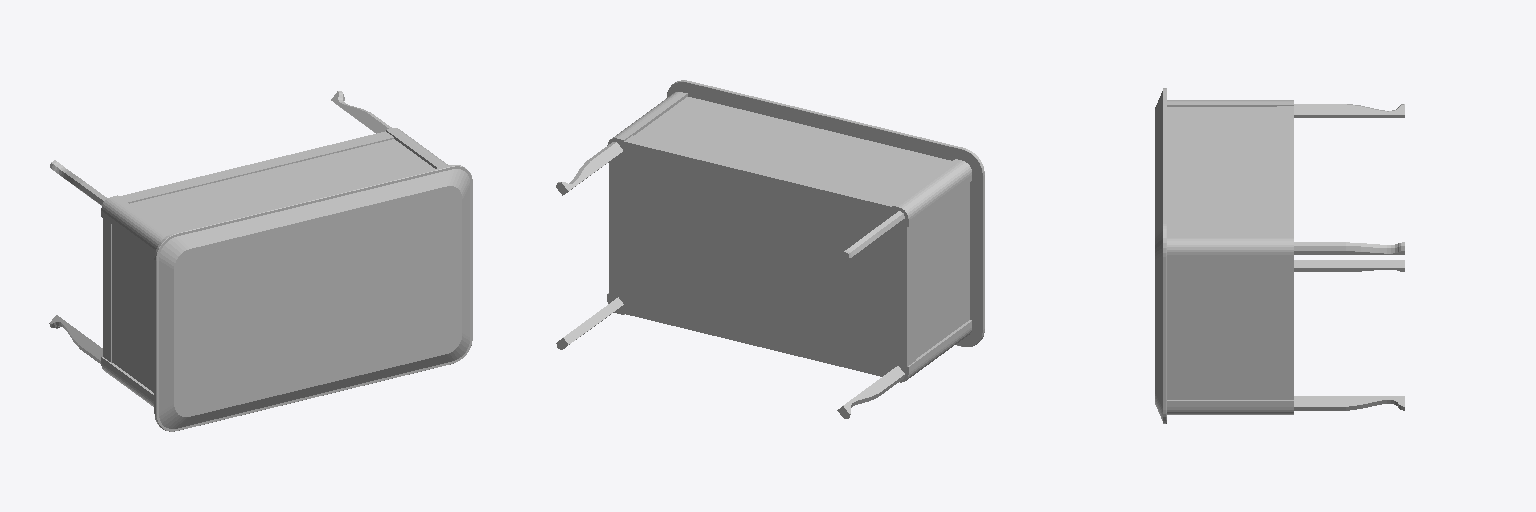
Rendered from Big Stand.obj.
The picture shows the model from 3 angles: view 1: azimuth 30°, elevation 25°; view 2: azimuth 150°, elevation 25°; view 3: azimuth 270°, elevation 25°; orthographic projection.
Parts seen in each view (by area): view 1: Big_Stand; view 2: Big_Stand; view 3: Big_Stand.
Part boxes in pixels (left/top/right/bottom): Big_Stand: left=49, top=91, right=472, bottom=431; Big_Stand: left=556, top=80, right=984, bottom=418; Big_Stand: left=1155, top=88, right=1404, bottom=423.
Bounding box in the file's own units: 117 × 69.99 × 80.